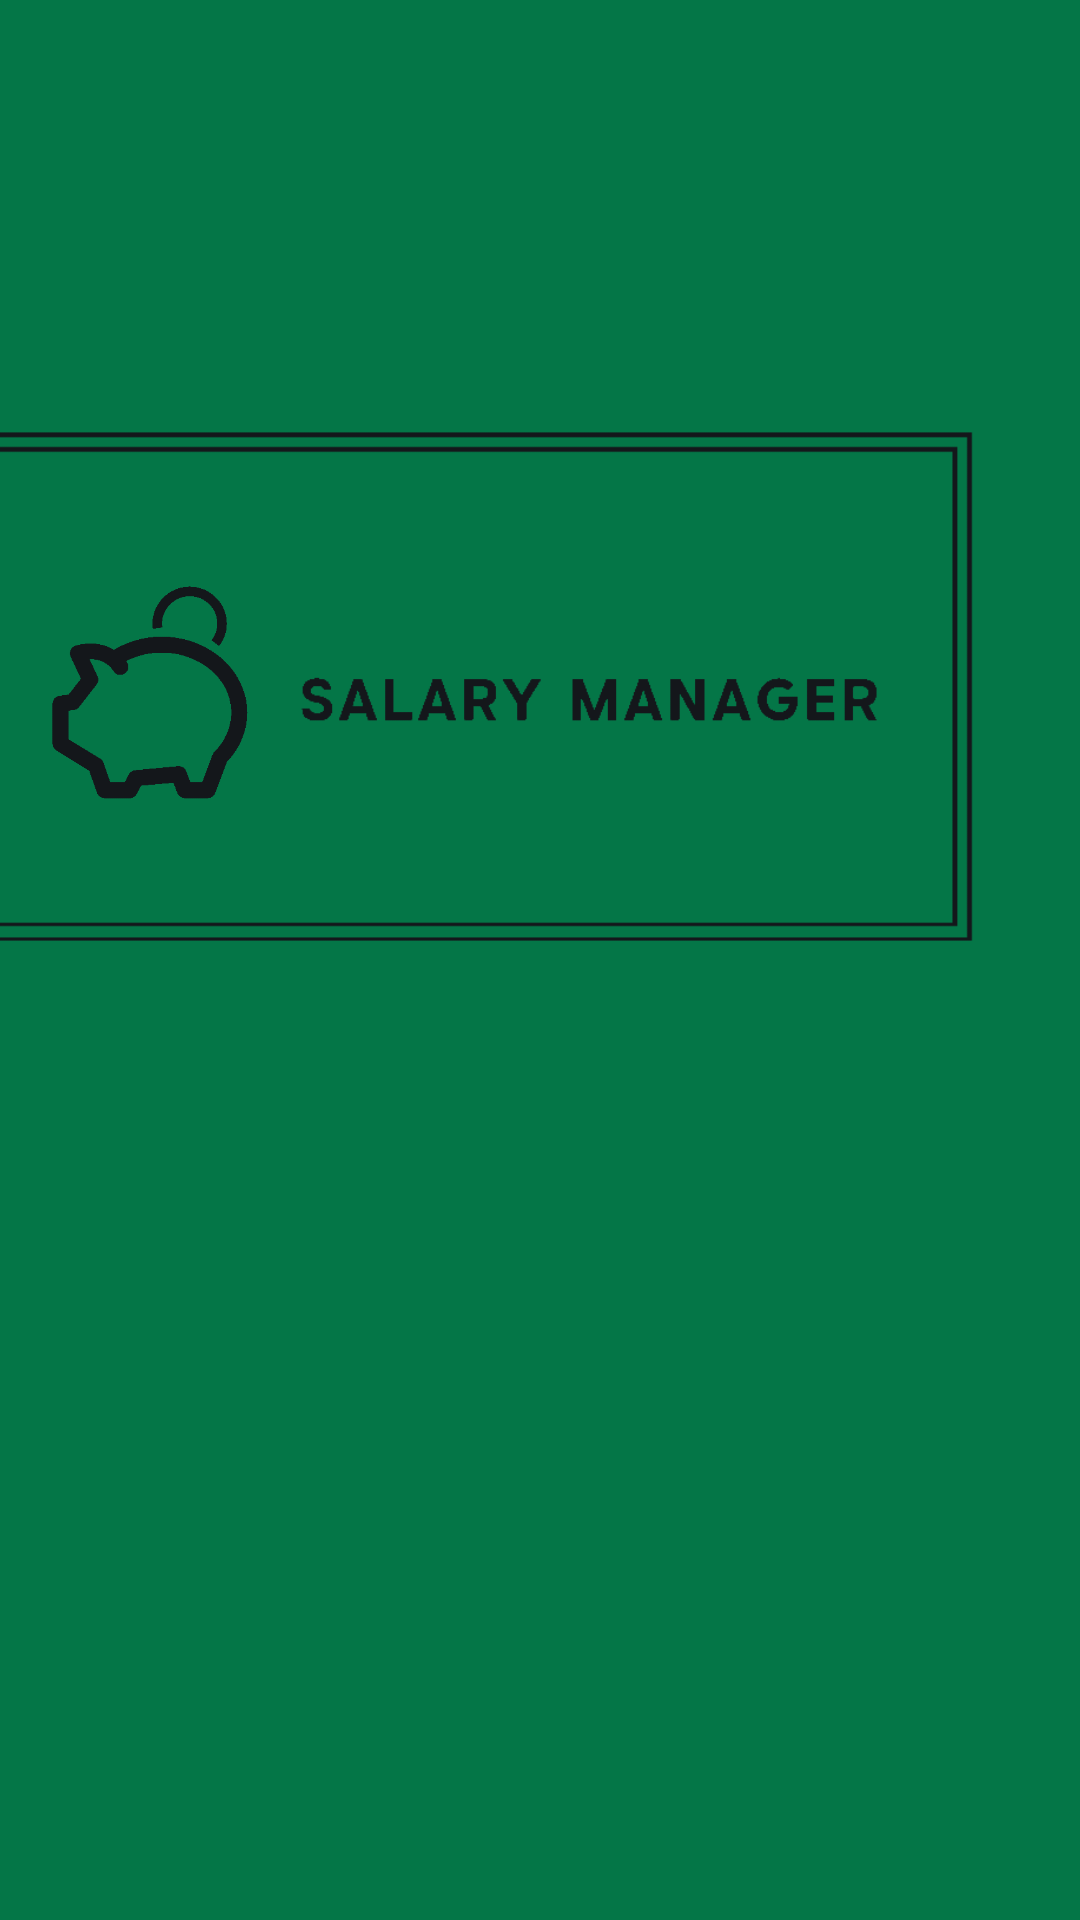

Named icons in this screenshot (1080w x 1920h) and their bounding boxes, box(x1, y1, x2, y2):
piggybank: box(52, 586, 248, 799)
